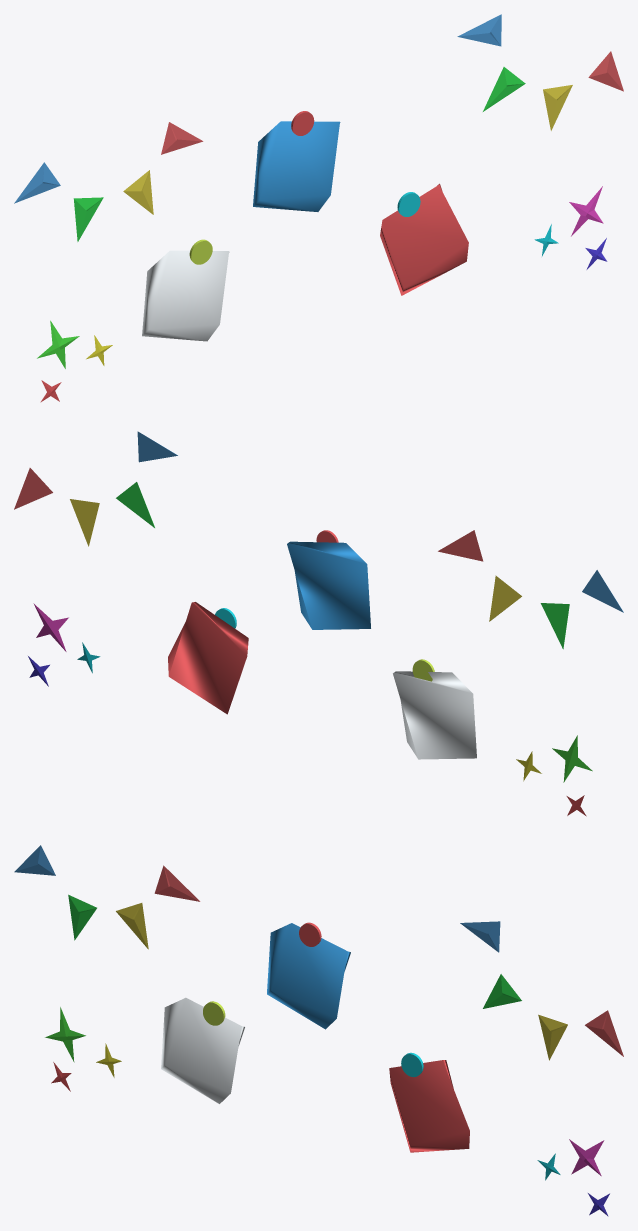
The model's file is ACCmading 1.fbx.
3 renders of one model, top to bottom at view 1: azimuth 30°, elevation 25°; view 2: azimuth 150°, elevation 25°; view 3: azimuth 330°, elevation 25°, orthographic.
Parts seen in each view (by area): view 1: Cylinder, Cylinder.001, Cylinder.002, Cube.008, Cube, Cube.014, Cube.016; view 2: Cylinder, Cylinder.001, Cylinder.002, Cube, Cube.008, Cube.016, Cube.014; view 3: Cylinder, Cylinder.001, Cylinder.002, Cube, Cube.008, Cube.016, Cube.014.
Part boxes in pixels (<box>): Cylinder: <box>142,239,229,341</box>; Cylinder.001: <box>253,111,340,211</box>; Cylinder.002: <box>380,183,468,295</box>; Cube.008: <box>457,14,623,130</box>; Cube: <box>14,122,203,241</box>; Cube.014: <box>37,320,112,402</box>; Cube.016: <box>534,186,607,269</box>; Cylinder: <box>393,659,476,759</box>; Cylinder.001: <box>287,530,370,629</box>; Cylinder.002: <box>168,602,248,714</box>; Cube: <box>438,530,623,649</box>; Cube.008: <box>14,431,177,546</box>; Cube.016: <box>28,603,100,686</box>; Cube.014: <box>516,735,592,816</box>; Cylinder: <box>161,997,244,1103</box>; Cylinder.001: <box>267,922,350,1029</box>; Cylinder.002: <box>389,1052,469,1152</box>; Cube: <box>14,845,200,949</box>; Cube.008: <box>460,921,623,1060</box>; Cube.016: <box>537,1139,609,1216</box>; Cube.014: <box>45,1007,121,1091</box>.
Size of the model in its own units: 590 by 259 by 23.76.
